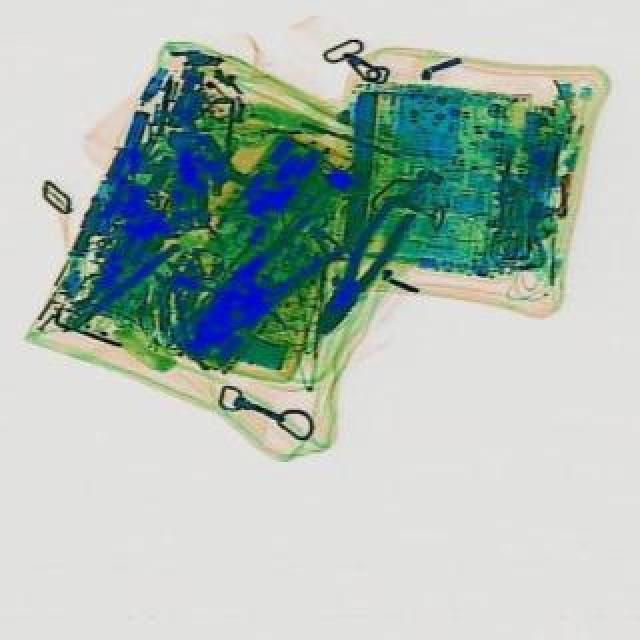wrench: (166, 210, 346, 374), (300, 198, 418, 344)
